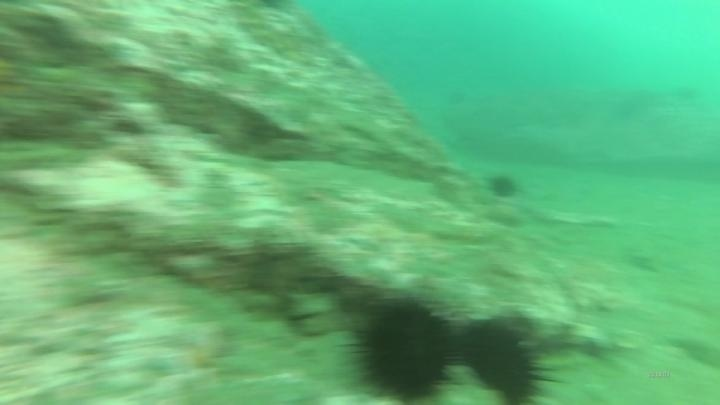echinus: (347, 292, 461, 404), (451, 312, 552, 405), (484, 170, 522, 203)
